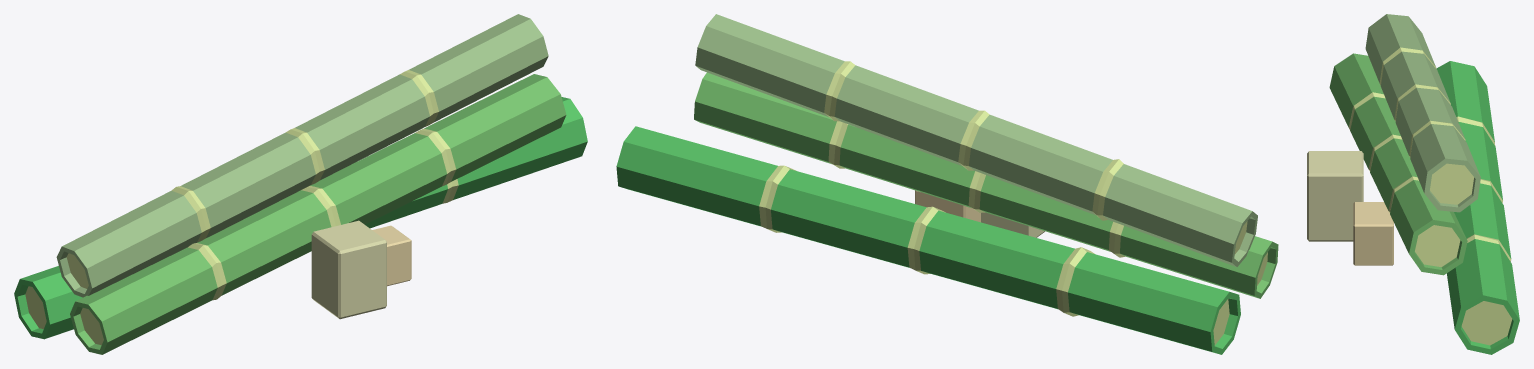
The model's file is cane.fbx.
The picture shows the model from 3 angles, left to right: view 1: azimuth 30°, elevation 25°; view 2: azimuth 150°, elevation 25°; view 3: azimuth 270°, elevation 25°; orthographic projection. The views are drawn at different scales.
Visible parts, largest first — view 1: cane.005; view 2: cane.005; view 3: cane.005.
Part boxes in pixels (x1,y1,x2,y2): cane.005: (14,14,587,354); cane.005: (616,14,1278,354); cane.005: (1307,14,1519,354).
Size of the model in its own units: 124 by 42.95 by 40.99.
